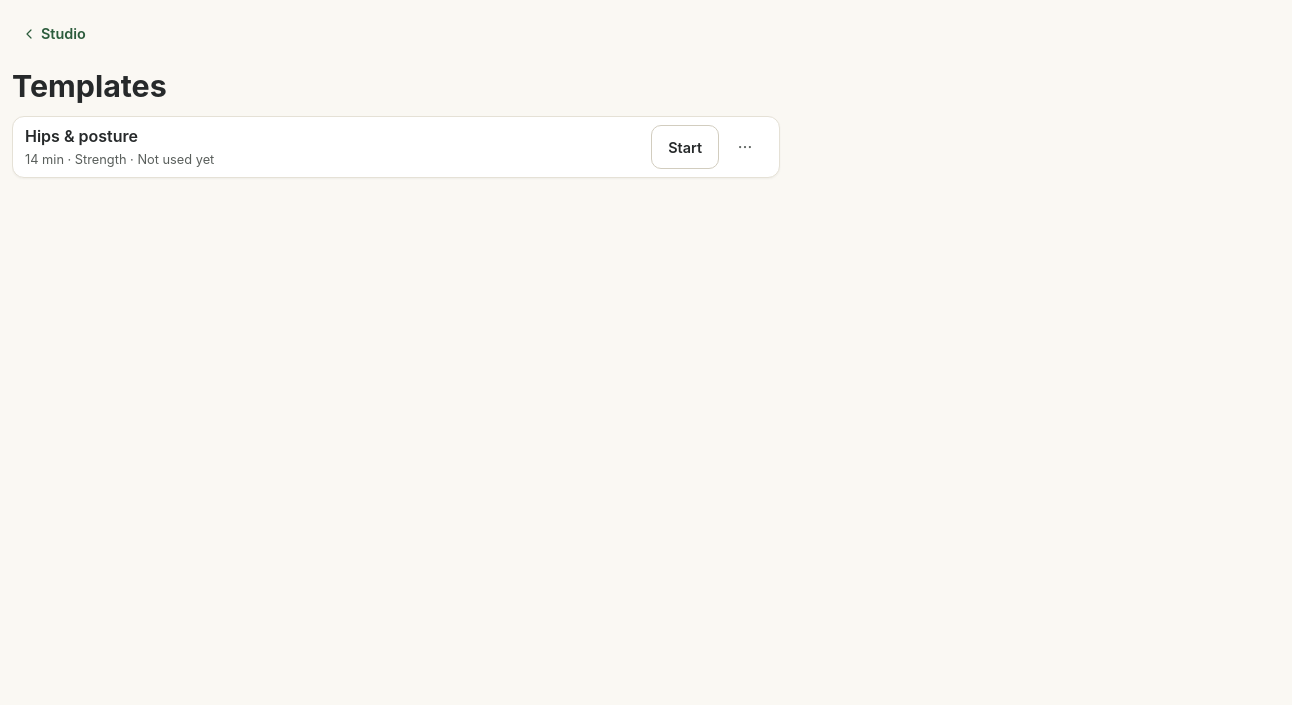
a template from the list › after Start, the planned workout it made still goes back to the list
The image size is (1292, 705).
Click the button with class "stu-tpl-start". click: click(685, 148)
box: [651, 126, 719, 170]
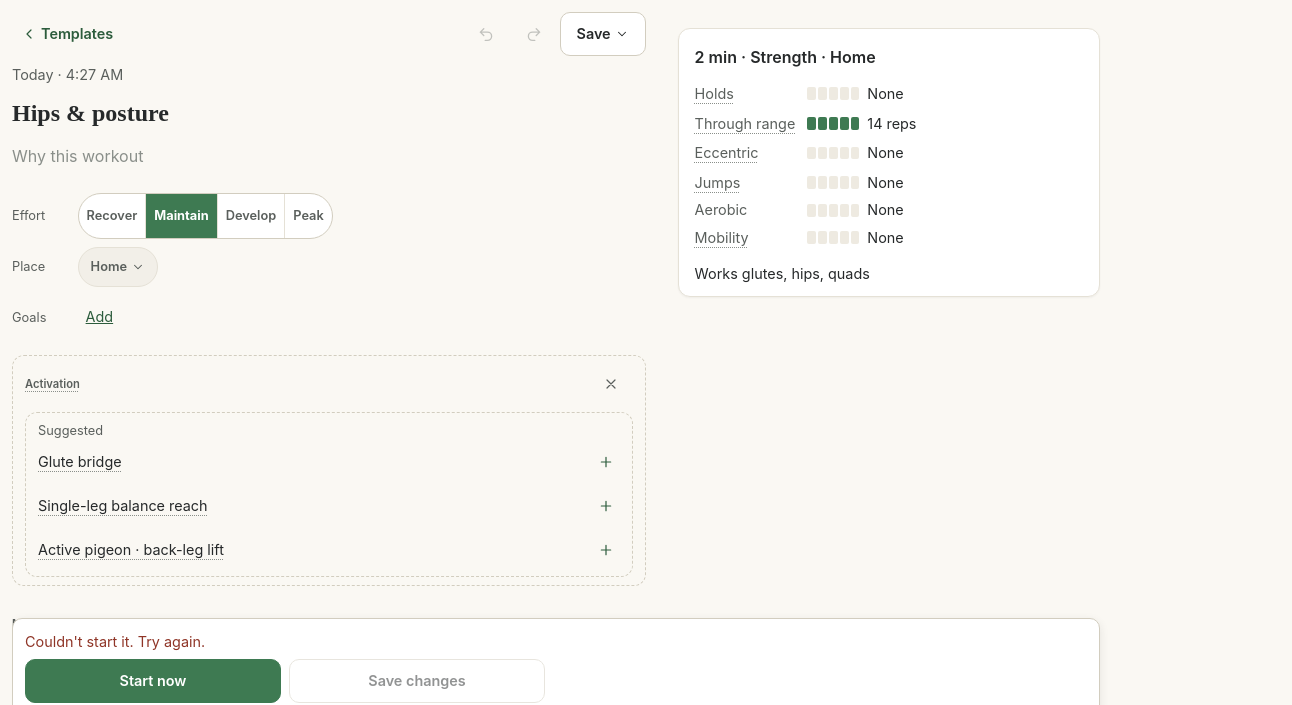
Check: the link with class "stu-build-back" reads "Templates", box [21, 25, 113, 42]
